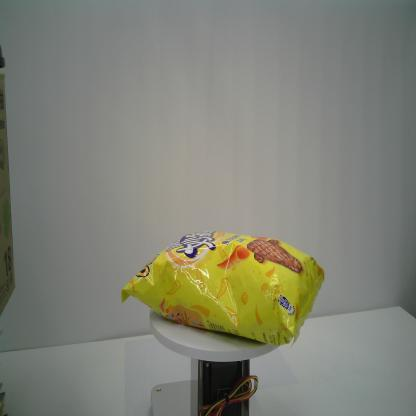Puffed Food: (119, 226, 323, 347)
